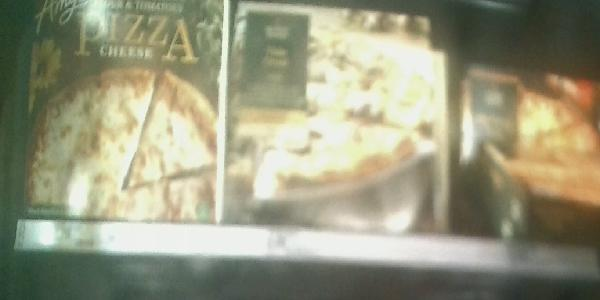pizza1: (225, 3, 444, 236), (24, 1, 226, 222), (462, 67, 598, 227)
